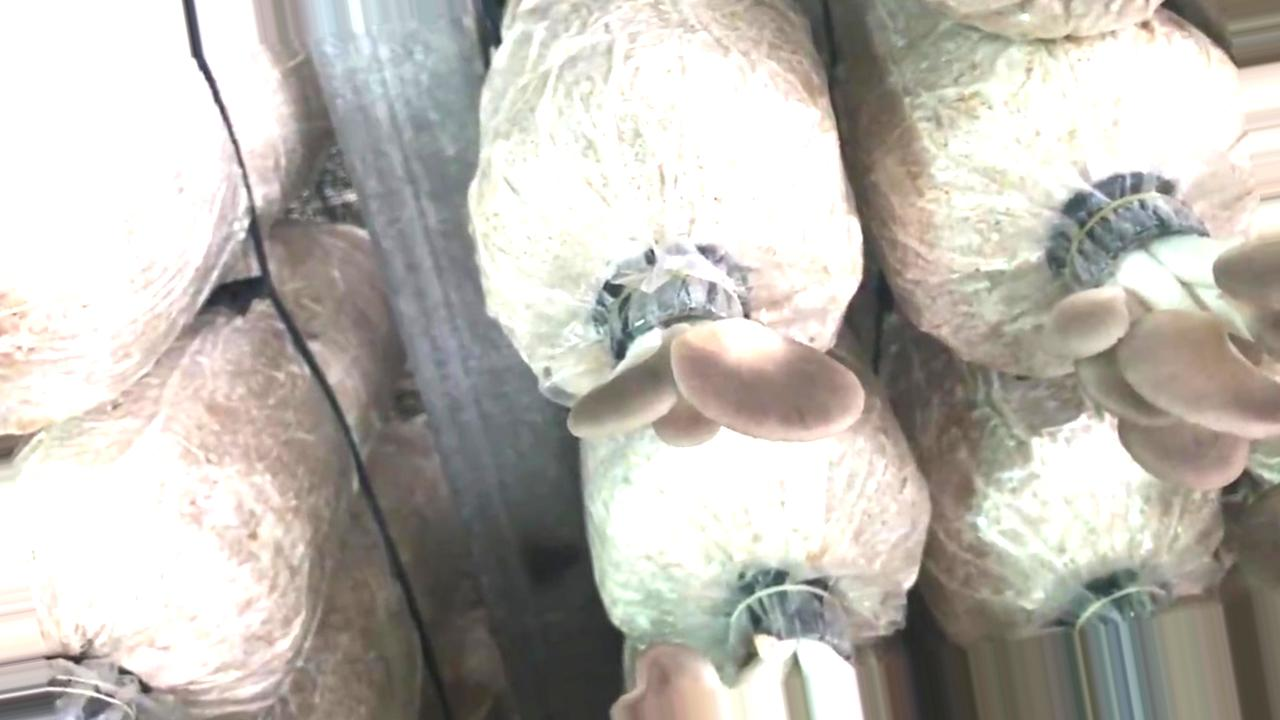nam: (1077, 199, 1280, 471), (584, 262, 827, 442)
